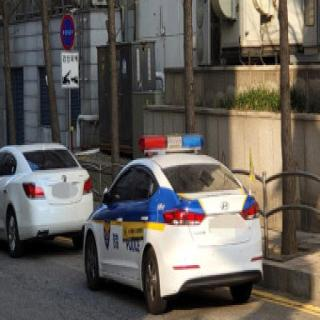Police_car: (81, 130, 265, 310)
